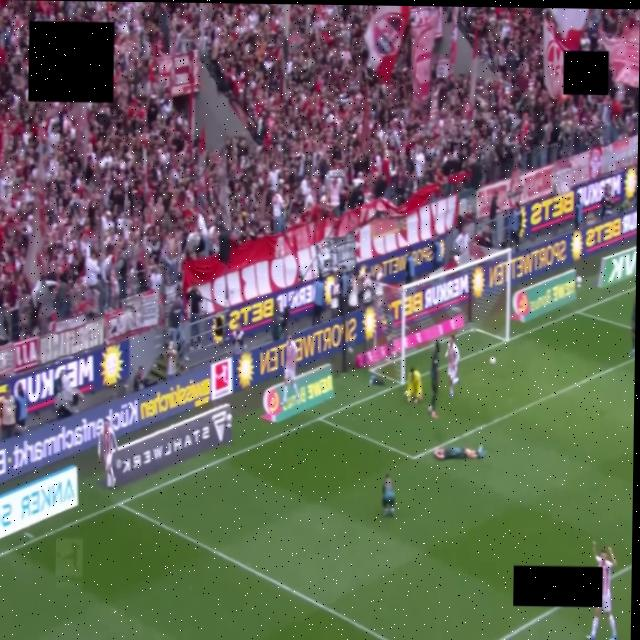ball: (489, 357, 495, 365)
player: (587, 543, 616, 639), (427, 342, 439, 418), (445, 335, 459, 398), (433, 447, 484, 460), (406, 367, 421, 402), (382, 475, 394, 516)
